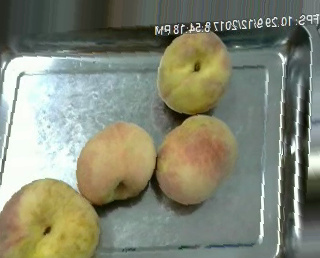Peach: (0, 177, 99, 257), (155, 113, 236, 205), (70, 119, 151, 205), (156, 28, 229, 114)
